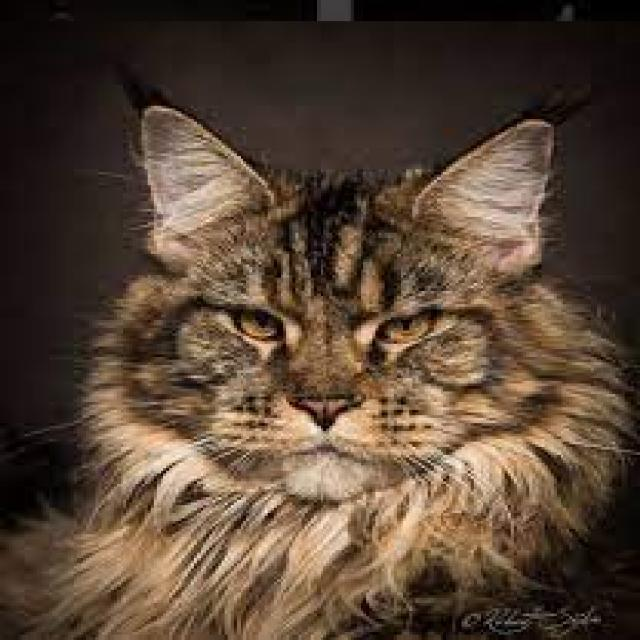cat: (53, 98, 639, 590)
